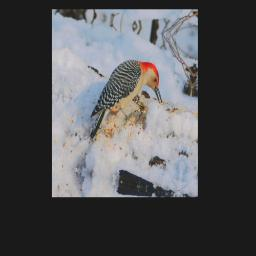Woodpecker: (85, 48, 167, 161)
